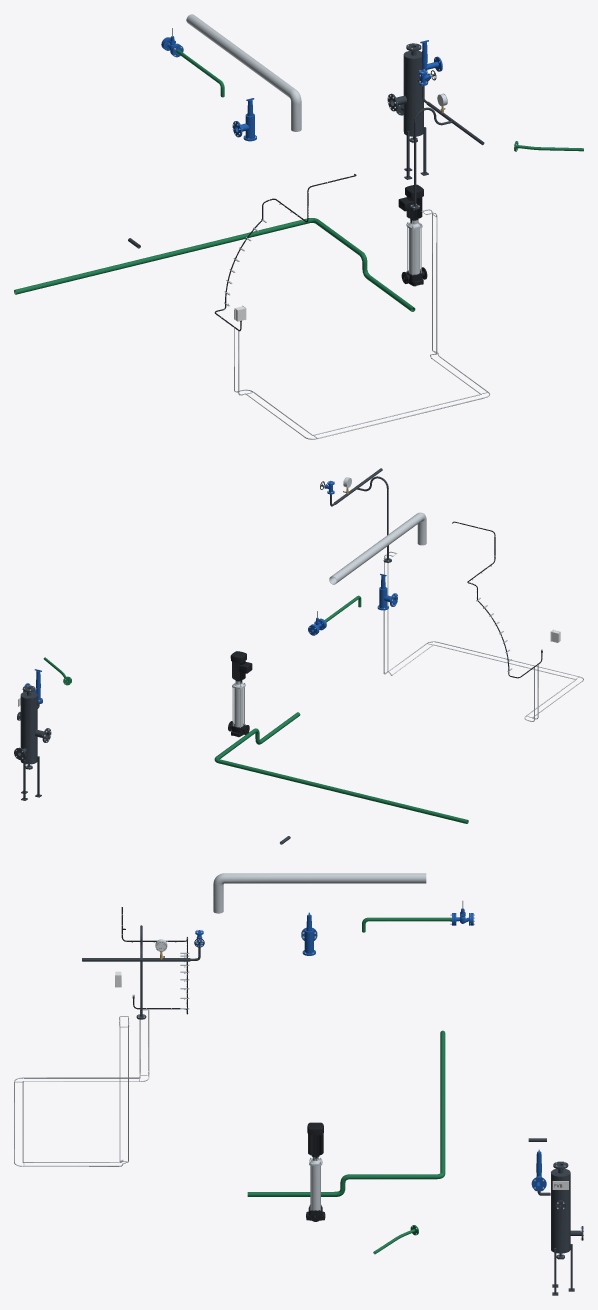
Rendered from s4000-5-F3NmsbGH.glb.
The picture shows the model from 3 angles, top to bottom: view 1: azimuth 30°, elevation 25°; view 2: azimuth 150°, elevation 25°; view 3: azimuth 270°, elevation 25°; orthographic projection. The views are drawn at different scales.
Visible parts, largest first — view 1: suction_common / green, separator_fv8 / dark, cables / zinc, steam_delivery / steel, steam_rise / steel, pressure_header / dark, pump_2 CAD solid 15; view 2: separator_fv8 / dark, suction_common / green, cables / zinc, steam_delivery / steel, pressure_header / dark, steam_rise / steel, pump_2 CAD solid 15; view 3: separator_fv8 / dark, suction_common / green, cables / zinc, steam_delivery / steel, steam_rise / steel, pressure_header / dark, pump_2 CAD solid 15.
Part boxes in pixels (x1,y1,x2,y2): suction_common / green: (14,218,415,311); separator_fv8 / dark: (387,43,429,179); cables / zinc: (234,209,490,439); steam_delivery / steel: (186,14,252,65); steam_rise / steel: (265,71,301,131); pressure_header / dark: (410,85,484,209); pump_2 CAD solid 15: (398,184,423,219); separator_fv8 / dark: (14,685,51,800); suction_common / green: (214,712,468,823); cables / zinc: (383,551,583,721); steam_delivery / steel: (329,539,387,584); pressure_header / dark: (330,468,391,562); steam_rise / steel: (398,512,426,545); pump_2 CAD solid 15: (230,651,252,680); separator_fv8 / dark: (534,1161,583,1295); suction_common / green: (247,1030,445,1196); cables / zinc: (14,1009,149,1166); steam_delivery / steel: (309,873,426,883); steam_rise / steel: (213,873,271,913); pressure_header / dark: (82,925,200,1019); pump_2 CAD solid 15: (307,1122,323,1156).
Bounding box in the file's own units: 6.71 × 3.37 × 6.28.
